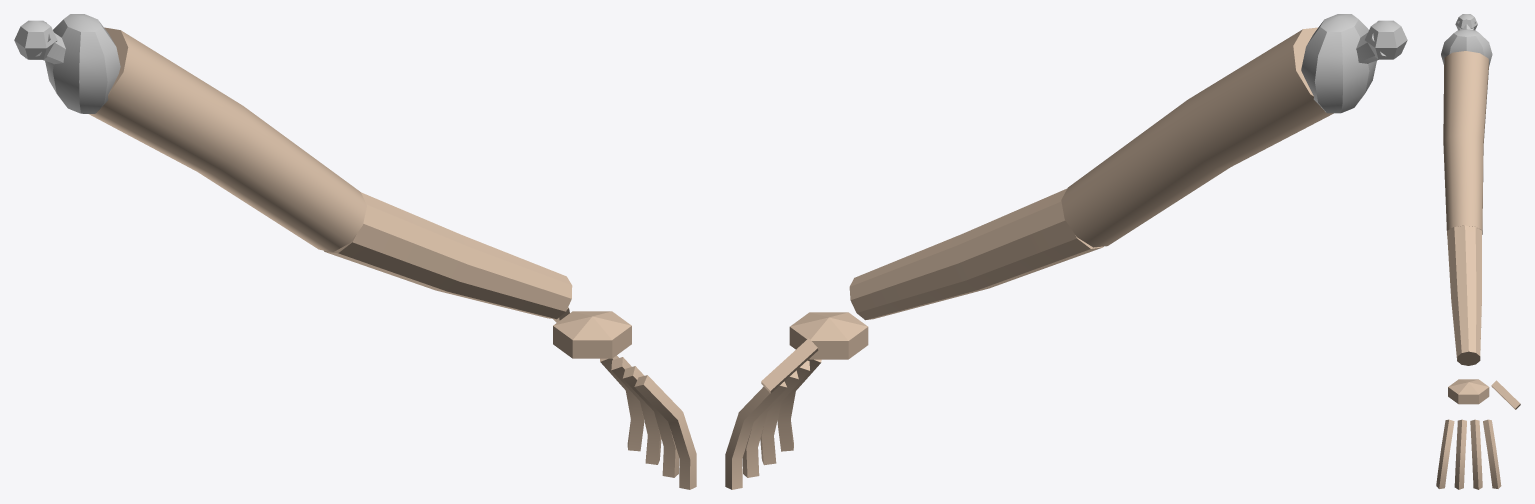
Rendered from clutter_arm.glb.
3 renders of one model, left to right at view 1: azimuth 30°, elevation 25°; view 2: azimuth 150°, elevation 25°; view 3: azimuth 270°, elevation 25°, orthographic. The views are drawn at different scales.
Visible parts, largest first — view 1: clutter_arm; view 2: clutter_arm; view 3: clutter_arm.
Boxes of the visible parts, box(x1,y1,x2,y2) form: clutter_arm: box(14, 14, 696, 489); clutter_arm: box(725, 14, 1407, 489); clutter_arm: box(1436, 14, 1520, 489).
Bounding box in the file's own units: 0.9738 × 0.8583 × 0.2097.
